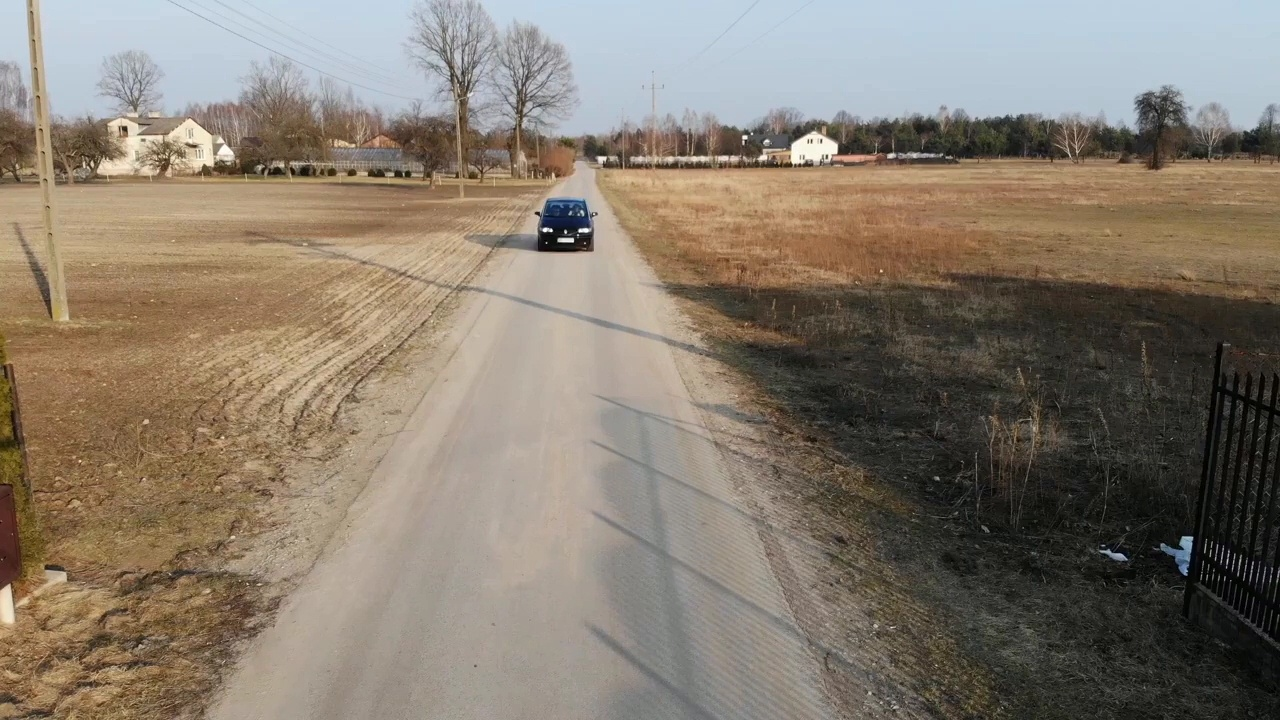araba: (539, 194, 593, 249)
